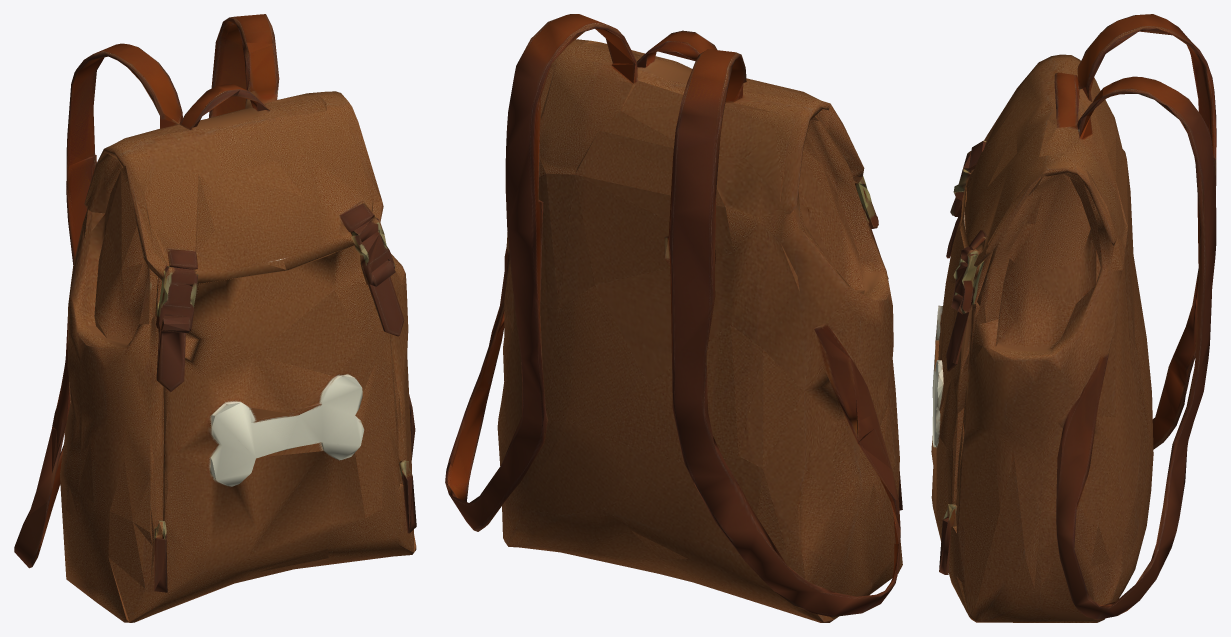
Rendered from SacOs.fbx.
3 views of the same model, side by side, from view 1: azimuth 30°, elevation 25°; view 2: azimuth 150°, elevation 25°; view 3: azimuth 270°, elevation 25° (orthographic). The views are drawn at different scales.
Visible parts, largest first — view 1: Mesh_0; view 2: Mesh_0; view 3: Mesh_0.
Part boxes in pixels (box(x1,y1,x2,y2)): Mesh_0: box(14, 14, 416, 622); Mesh_0: box(445, 14, 902, 622); Mesh_0: box(931, 14, 1216, 622).
Size of the model in its own units: 158 by 190 by 97.23.
Materials: 1 (1 with a texture image).
